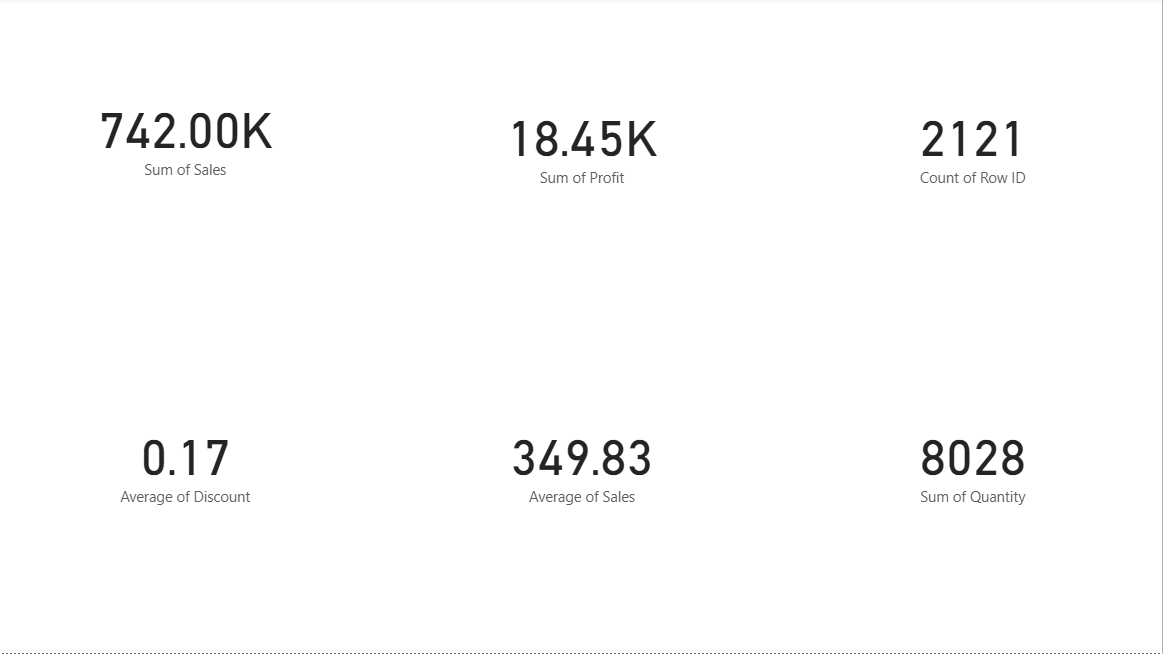

The dashboard page shown, as its layout file describes it:
{"tool":"powerbi","page":{"name":"Page 2","canvas":[1280,720],"ordinal":1},"visuals":[{"type":"card","fields":{"Values":["Sum(Super_Store_data_cleaned.Sales)"]},"box":[0,0,415.8,300.5],"z":0},{"type":"card","fields":{"Values":["Sum(Super_Store_data_cleaned.Profit)"]},"box":[429.5,17.8,428.1,282.7],"z":1},{"type":"card","fields":{"Values":["CountNonNull(Super_Store_data_cleaned.Row ID)"]},"box":[864.5,9.6,415.8,300.5],"z":2},{"type":"card","fields":{"Values":["Avg(Super_Store_data_cleaned.Discount)"]},"box":[0,359.5,415.8,300.5],"z":3},{"type":"card","fields":{"Values":["Avg(Super_Store_data_cleaned.Sales)"]},"box":[430,360,428,301],"z":4},{"type":"card","fields":{"Values":["Sum(Super_Store_data_cleaned.Quantity)"]},"box":[864,360,416,301],"z":5}]}

Visuals, with their boxes in screenshot pixels (x1, y1, x2, y2), scaled from the page's 1280x720 canvas onto the 1163x654 screenshot:
card - Sum(Super_Store_data_cleaned.Sales): BBox(0, 0, 378, 273)
card - Sum(Super_Store_data_cleaned.Profit): BBox(390, 16, 779, 273)
card - CountNonNull(Super_Store_data_cleaned.Row ID): BBox(785, 9, 1162, 282)
card - Avg(Super_Store_data_cleaned.Discount): BBox(0, 327, 378, 600)
card - Avg(Super_Store_data_cleaned.Sales): BBox(391, 327, 780, 600)
card - Sum(Super_Store_data_cleaned.Quantity): BBox(785, 327, 1162, 600)
